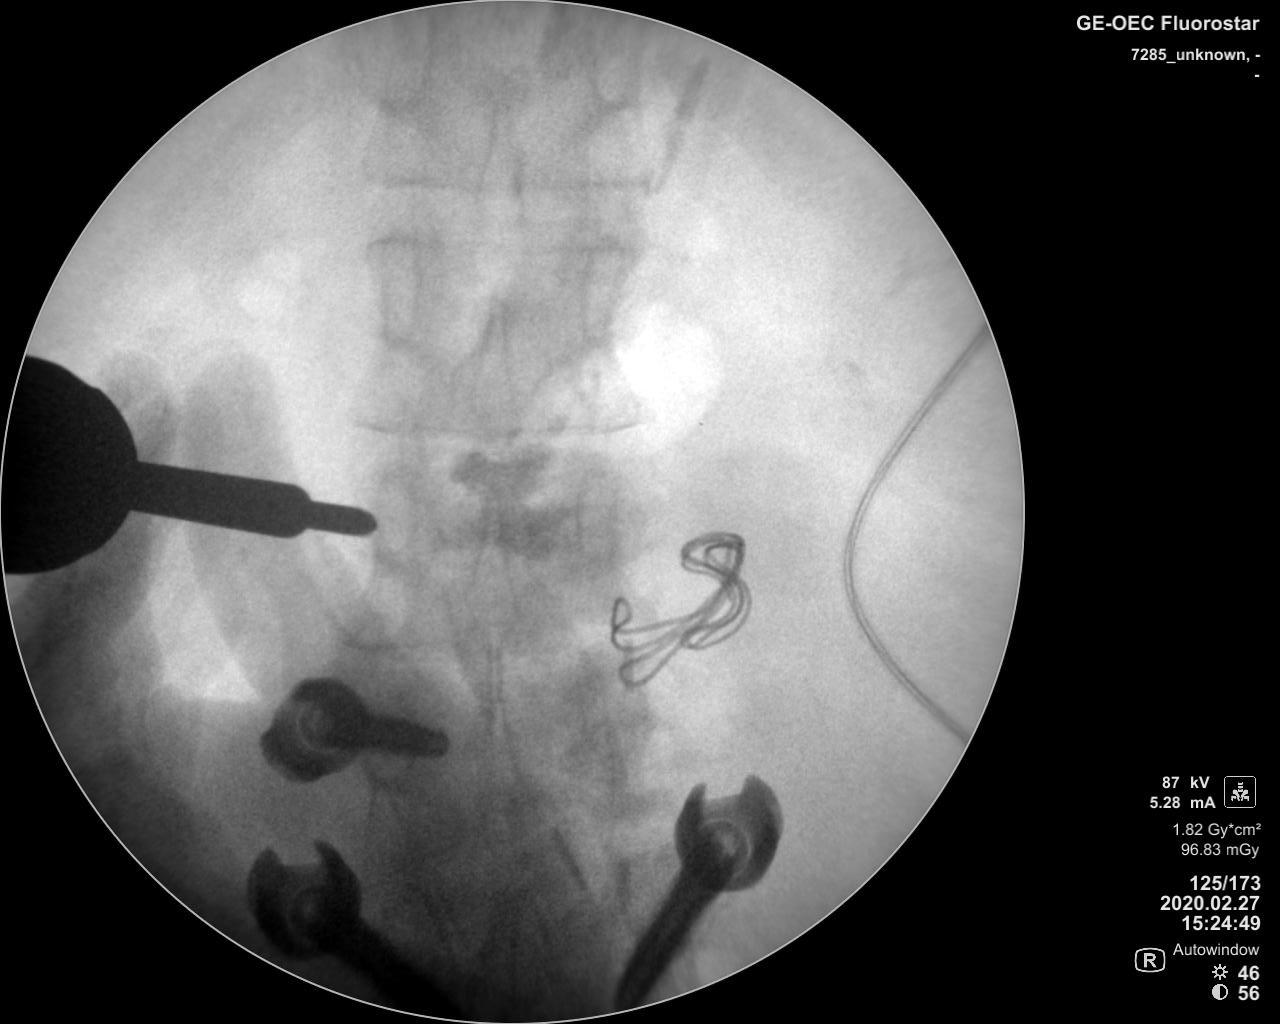eyes: (373, 233, 423, 347), (373, 23, 432, 114), (592, 21, 644, 109), (574, 470, 621, 565), (579, 238, 621, 343), (375, 475, 417, 556)
line: (365, 168, 673, 197), (339, 410, 652, 438), (365, 234, 657, 257)
nose: (467, 297, 521, 447), (465, 498, 519, 641), (474, 96, 527, 236), (475, 692, 528, 825)
